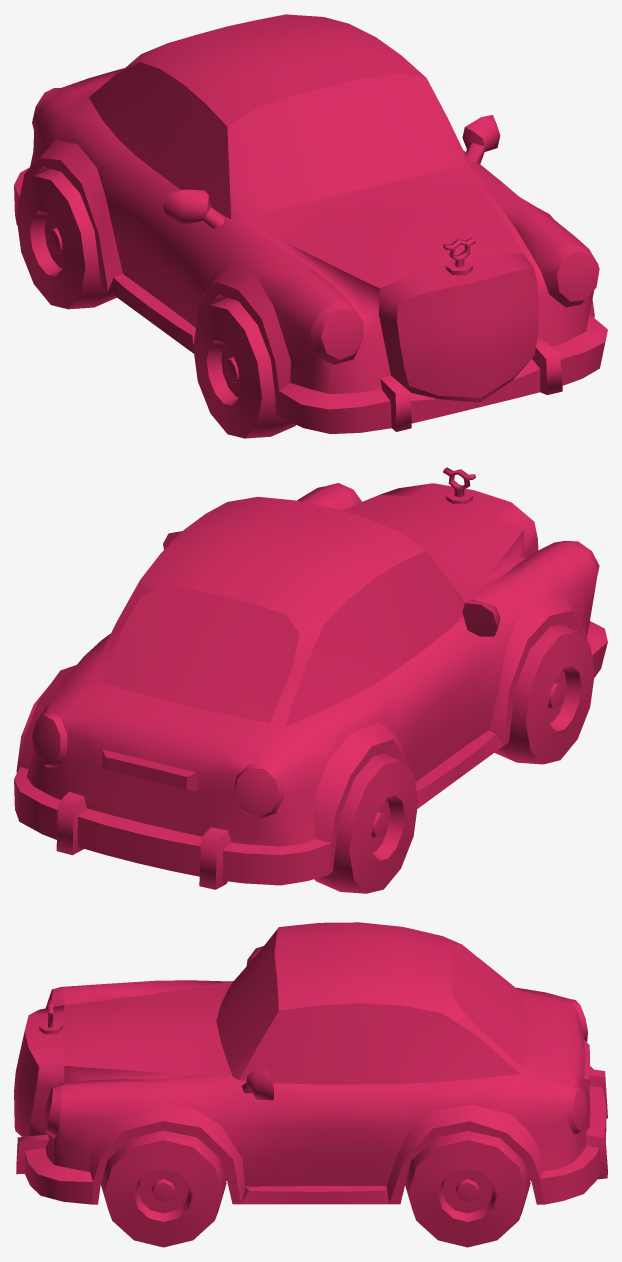
Rendered from Vehicle_Land_Luxury.fbx.
3 renders of one model, top to bottom at view 1: azimuth 30°, elevation 25°; view 2: azimuth 150°, elevation 25°; view 3: azimuth 270°, elevation 25°, orthographic. The views are drawn at different scales.
Visible parts, largest first — view 1: Vehicle_Land_Luxury; view 2: Vehicle_Land_Luxury; view 3: Vehicle_Land_Luxury.
Boxes of the visible parts, box(x1,y1,x2,y2) form: Vehicle_Land_Luxury: box(14, 14, 607, 438); Vehicle_Land_Luxury: box(14, 467, 607, 893); Vehicle_Land_Luxury: box(14, 922, 607, 1247).
Bounding box in the file's own units: 56.36 × 42.41 × 98.77.
